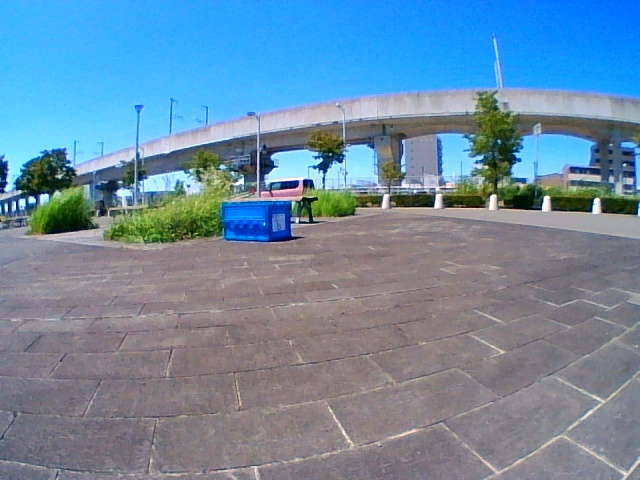blue_box: (223, 203, 291, 238)
tag: (272, 214, 285, 231)
